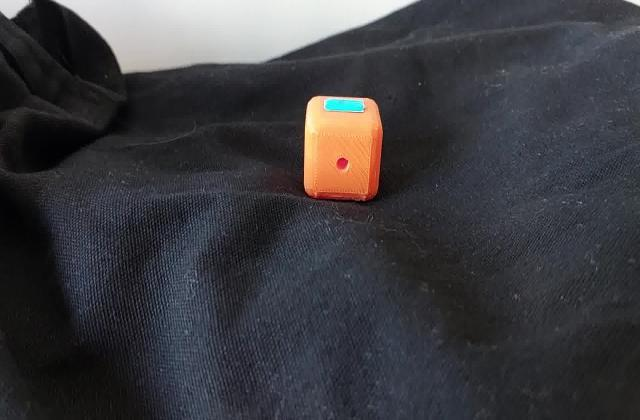blue: (331, 102, 361, 110)
cube: (302, 93, 384, 204)
